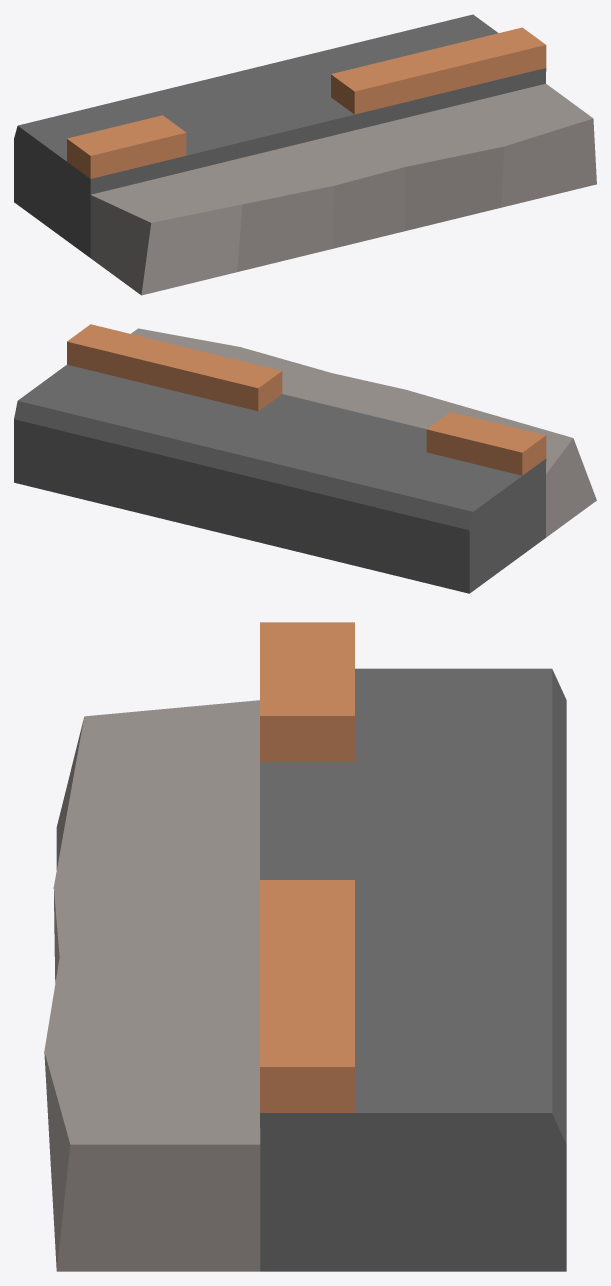
File: Barrier3.fbx
The picture shows the model from 3 angles, top to bottom: view 1: azimuth 30°, elevation 25°; view 2: azimuth 150°, elevation 25°; view 3: azimuth 270°, elevation 25°; orthographic projection. The views are drawn at different scales.
Parts seen in each view (by area): view 1: Cube.002; view 2: Cube.002; view 3: Cube.002.
Part boxes in pixels (box(x1,y1,x2,y2)): Cube.002: box(14, 14, 596, 295); Cube.002: box(14, 324, 596, 593); Cube.002: box(44, 622, 566, 1271).
Bounding box in the file's own units: 1203 × 258 × 597.
